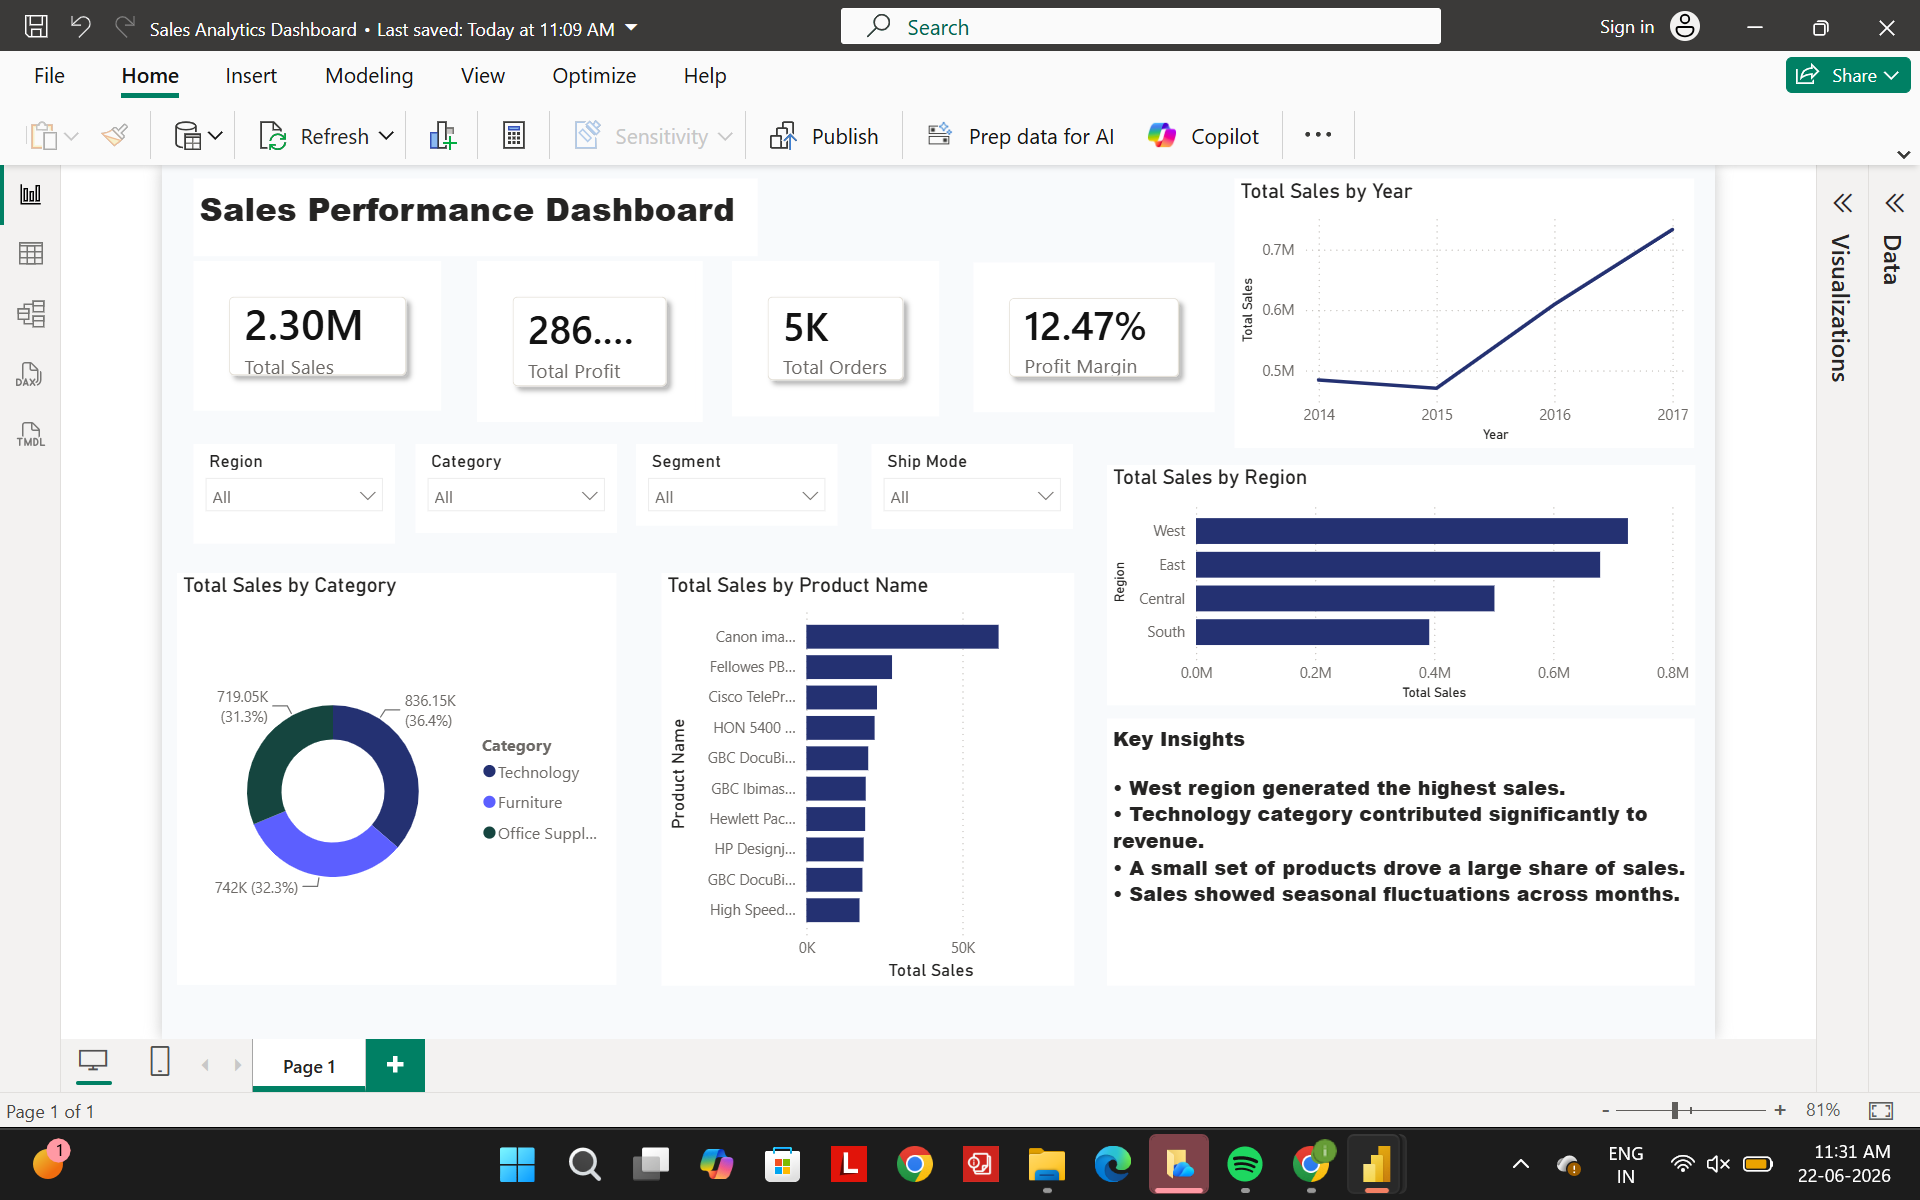

What the dashboard file says about the page in this screenshot:
{"tool":"powerbi","page":{"name":"Page 1","canvas":[1280,720],"ordinal":0},"visuals":[{"type":"cardVisual","fields":{"Data":["Sample - Superstore.Total Sales"]},"box":[25.9,79.2,204.1,123.4],"z":0},{"type":"cardVisual","fields":{"Data":["Sample - Superstore.Total Profit"]},"box":[258.9,79.2,185.8,132.5],"z":1000},{"type":"cardVisual","fields":{"Data":["Sample - Superstore.Total Orders"]},"box":[469.2,79.2,170.6,128],"z":2000},{"type":"cardVisual","fields":{"Data":["Sample - Superstore.Profit Margin"]},"box":[669.1,79.8,198.7,123],"z":3000},{"type":"clusteredBarChart","fields":{"Category":["Sample - Superstore.Region"],"Y":["Sample - Superstore.Total Sales"]},"box":[778.4,246.8,484.4,198],"z":4000},{"type":"lineChart","fields":{"Category":["Sample - Superstore.Order Date.Variation.Date Hierarchy.Year","Sample - Superstore.Order Date.Variation.Date Hierarchy.Quarter","Sample - Superstore.Order Date.Variation.Date Hierarchy.Month","Sample - Superstore.Order Date.Variation.Date Hierarchy.Day"],"Y":["Sample - Superstore.Total Sales"]},"box":[884,10.8,378.5,221.7],"z":5000},{"type":"donutChart","fields":{"Category":["Sample - Superstore.Category"],"Y":["Sample - Superstore.Total Sales"]},"box":[12.2,336.6,362.3,339.3],"z":6000},{"type":"clusteredBarChart","fields":{"Y":["Sample - Superstore.Total Sales"],"Category":["Sample - Superstore.Product Name"]},"box":[411.3,336.6,339.7,339.7],"z":7000},{"type":"slicer","fields":{"Values":["Sample - Superstore.Region"]},"box":[25.9,230,166,82.3],"z":8000},{"type":"slicer","fields":{"Values":["Sample - Superstore.Category"]},"box":[208.7,230,166,73.1],"z":9000},{"type":"slicer","fields":{"Values":["Sample - Superstore.Segment"]},"box":[389.9,230,166,67],"z":10000},{"type":"slicer","fields":{"Values":["Sample - Superstore.Ship Mode"]},"box":[584.9,230,166,70.1],"z":11000},{"type":"textbox","box":[26.5,11.3,464.9,64.3],"z":12000},{"type":"textbox","box":[778.6,455.5,483.9,220.3],"z":13000}]}

Visuals, with their boxes on the page's 1280x720 design canvas (x1, y1, x2, y2). These are canvas units, not pixel positions in the 1920x1200 screenshot, which may show the page scaled, cropped or inside an application window:
cardVisual - Sample - Superstore.Total Sales: l=26, t=79, r=230, b=203
cardVisual - Sample - Superstore.Total Profit: l=259, t=79, r=445, b=212
cardVisual - Sample - Superstore.Total Orders: l=469, t=79, r=640, b=207
cardVisual - Sample - Superstore.Profit Margin: l=669, t=80, r=868, b=203
clusteredBarChart - Sample - Superstore.Region x Sample - Superstore.Total Sales: l=778, t=247, r=1263, b=445
lineChart - Sample - Superstore.Order Date.Variation.Date Hierarchy.Year x Sample - Superstore.Order Date.Variation.Date Hierarchy.Quarter: l=884, t=11, r=1262, b=232
donutChart - Sample - Superstore.Category x Sample - Superstore.Total Sales: l=12, t=337, r=374, b=676
clusteredBarChart - Sample - Superstore.Total Sales x Sample - Superstore.Product Name: l=411, t=337, r=751, b=676
slicer - Sample - Superstore.Region: l=26, t=230, r=192, b=312
slicer - Sample - Superstore.Category: l=209, t=230, r=375, b=303
slicer - Sample - Superstore.Segment: l=390, t=230, r=556, b=297
slicer - Sample - Superstore.Ship Mode: l=585, t=230, r=751, b=300
textbox: l=26, t=11, r=491, b=76
textbox: l=779, t=456, r=1262, b=676
